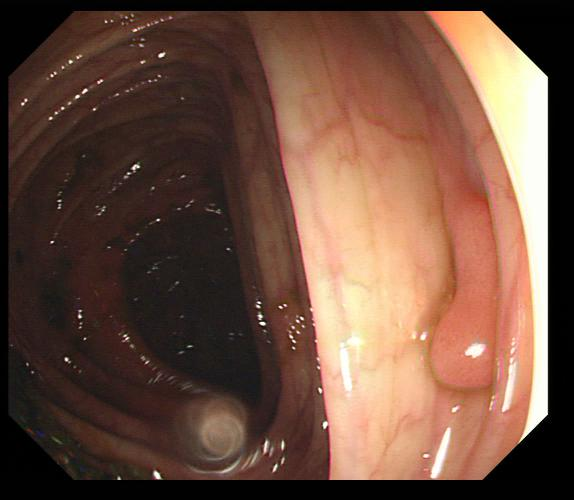polyp: (428, 176, 498, 397)
